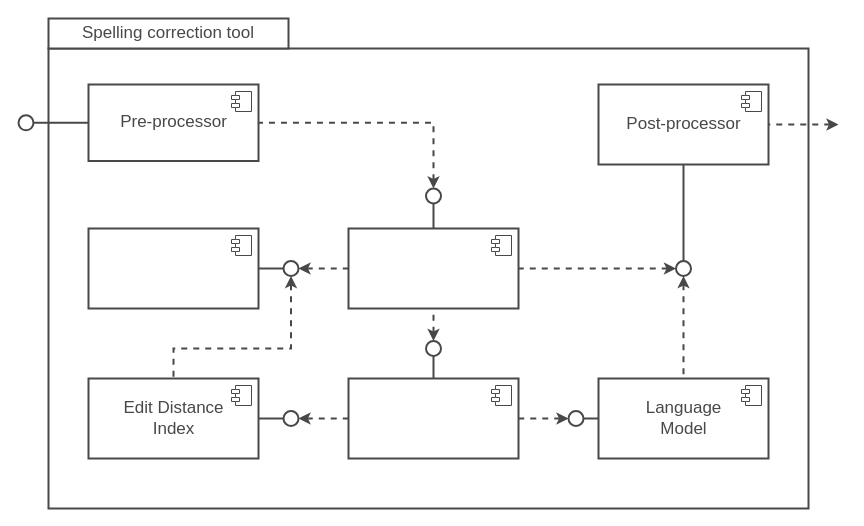
Image size: 864x526. Some labels were removed from this diagram. Each missing label, with the centre of its shape:
Dictionary: [173,268]
Error Detector: [433,268]
Error Model: [433,418]
